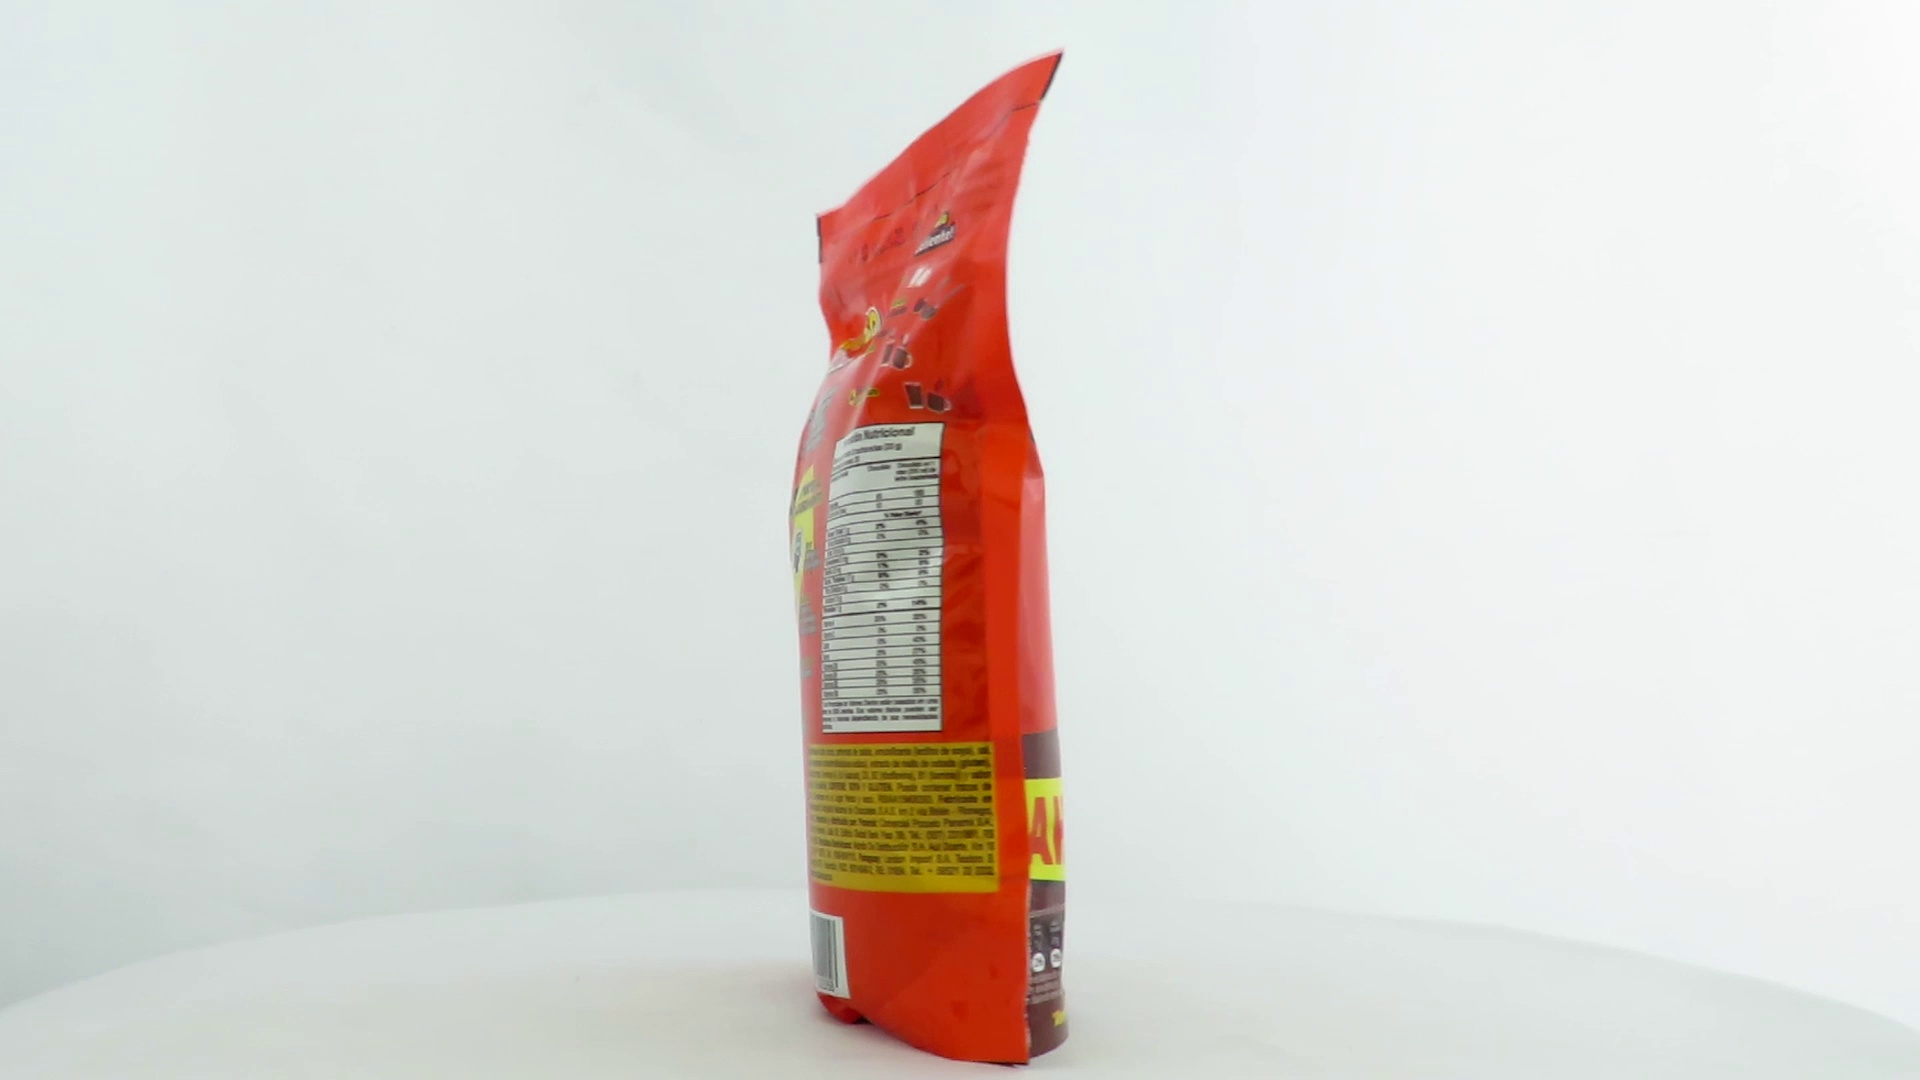COL0170103DYP40000: (783, 47, 1075, 1077)
